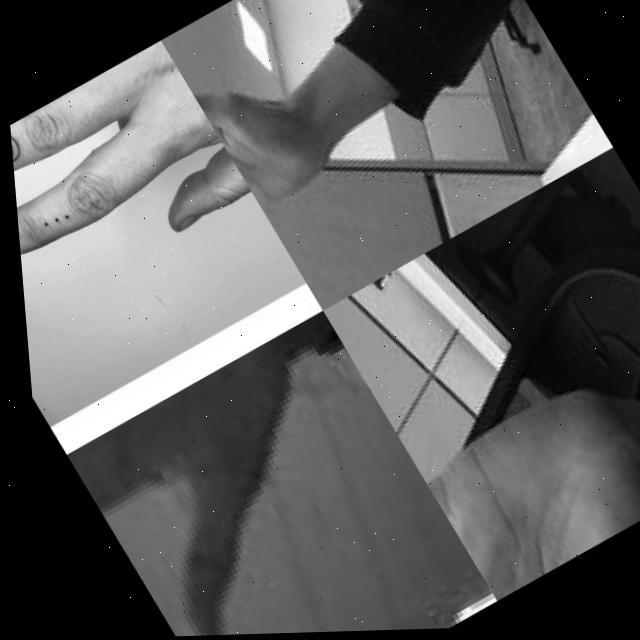no-gloves: (51, 330, 401, 640), (2, 39, 256, 335), (385, 338, 640, 606), (182, 34, 348, 217)
